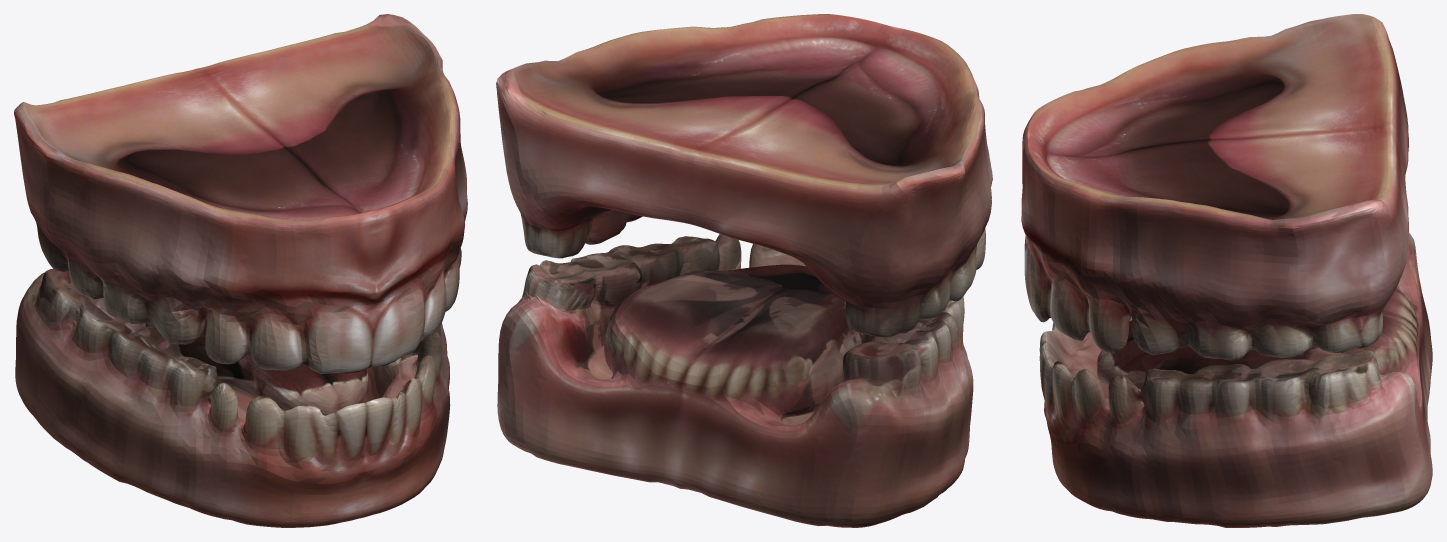
Rendered from Teethforsale.glb.
3 renders of one model, left to right at view 1: azimuth 30°, elevation 25°; view 2: azimuth 150°, elevation 25°; view 3: azimuth 270°, elevation 25°, orthographic. The views are drawn at different scales.
Size of the model in its own units: 2 by 1.67 by 1.74.
Materials: 1 (1 with a texture image).
